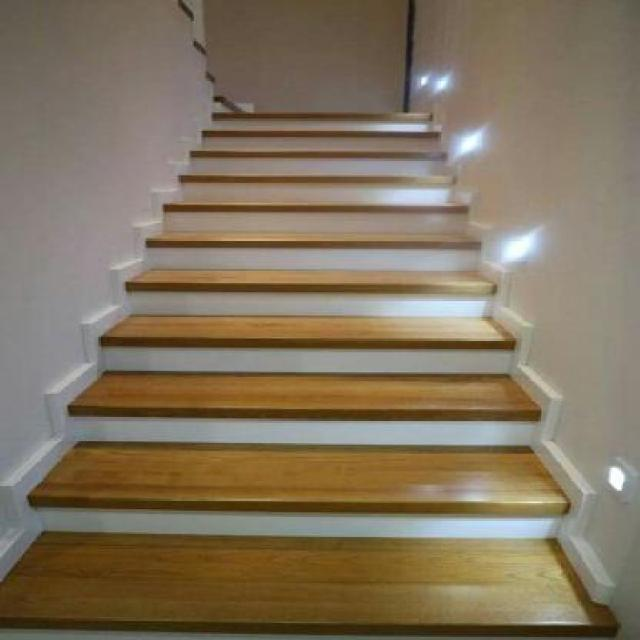stair: (1, 47, 638, 638)
